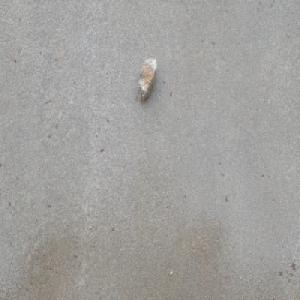Rock: (137, 57, 157, 102)
